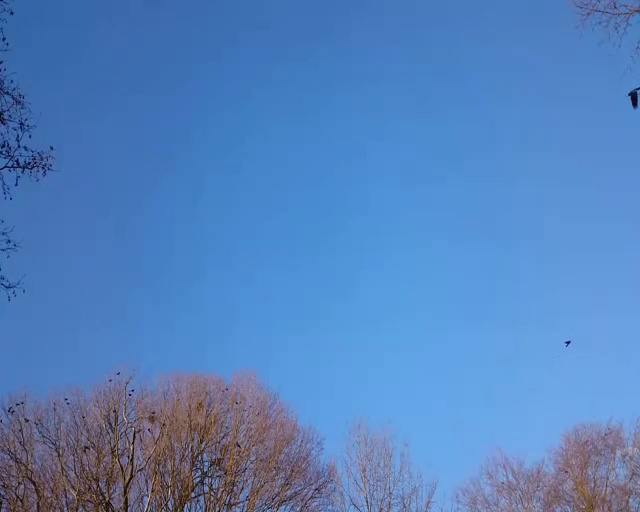BIRD: (563, 339, 571, 347)
